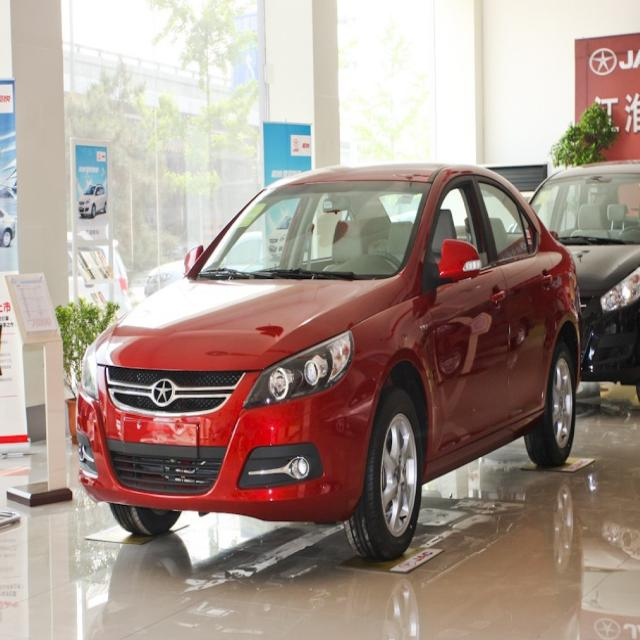door: (482, 178, 554, 402)
front_bumper: (77, 388, 370, 522)
front_glass: (198, 175, 428, 289)
front_left_side_door: (420, 173, 514, 471)
front_left_side_light: (242, 328, 355, 415)
front_left_side_mirror: (429, 238, 484, 290)
front_right_side_light: (78, 337, 102, 400)
front_right_side_mirror: (184, 242, 209, 277)
wheel: (349, 386, 424, 560), (530, 341, 576, 464), (107, 504, 182, 540)
